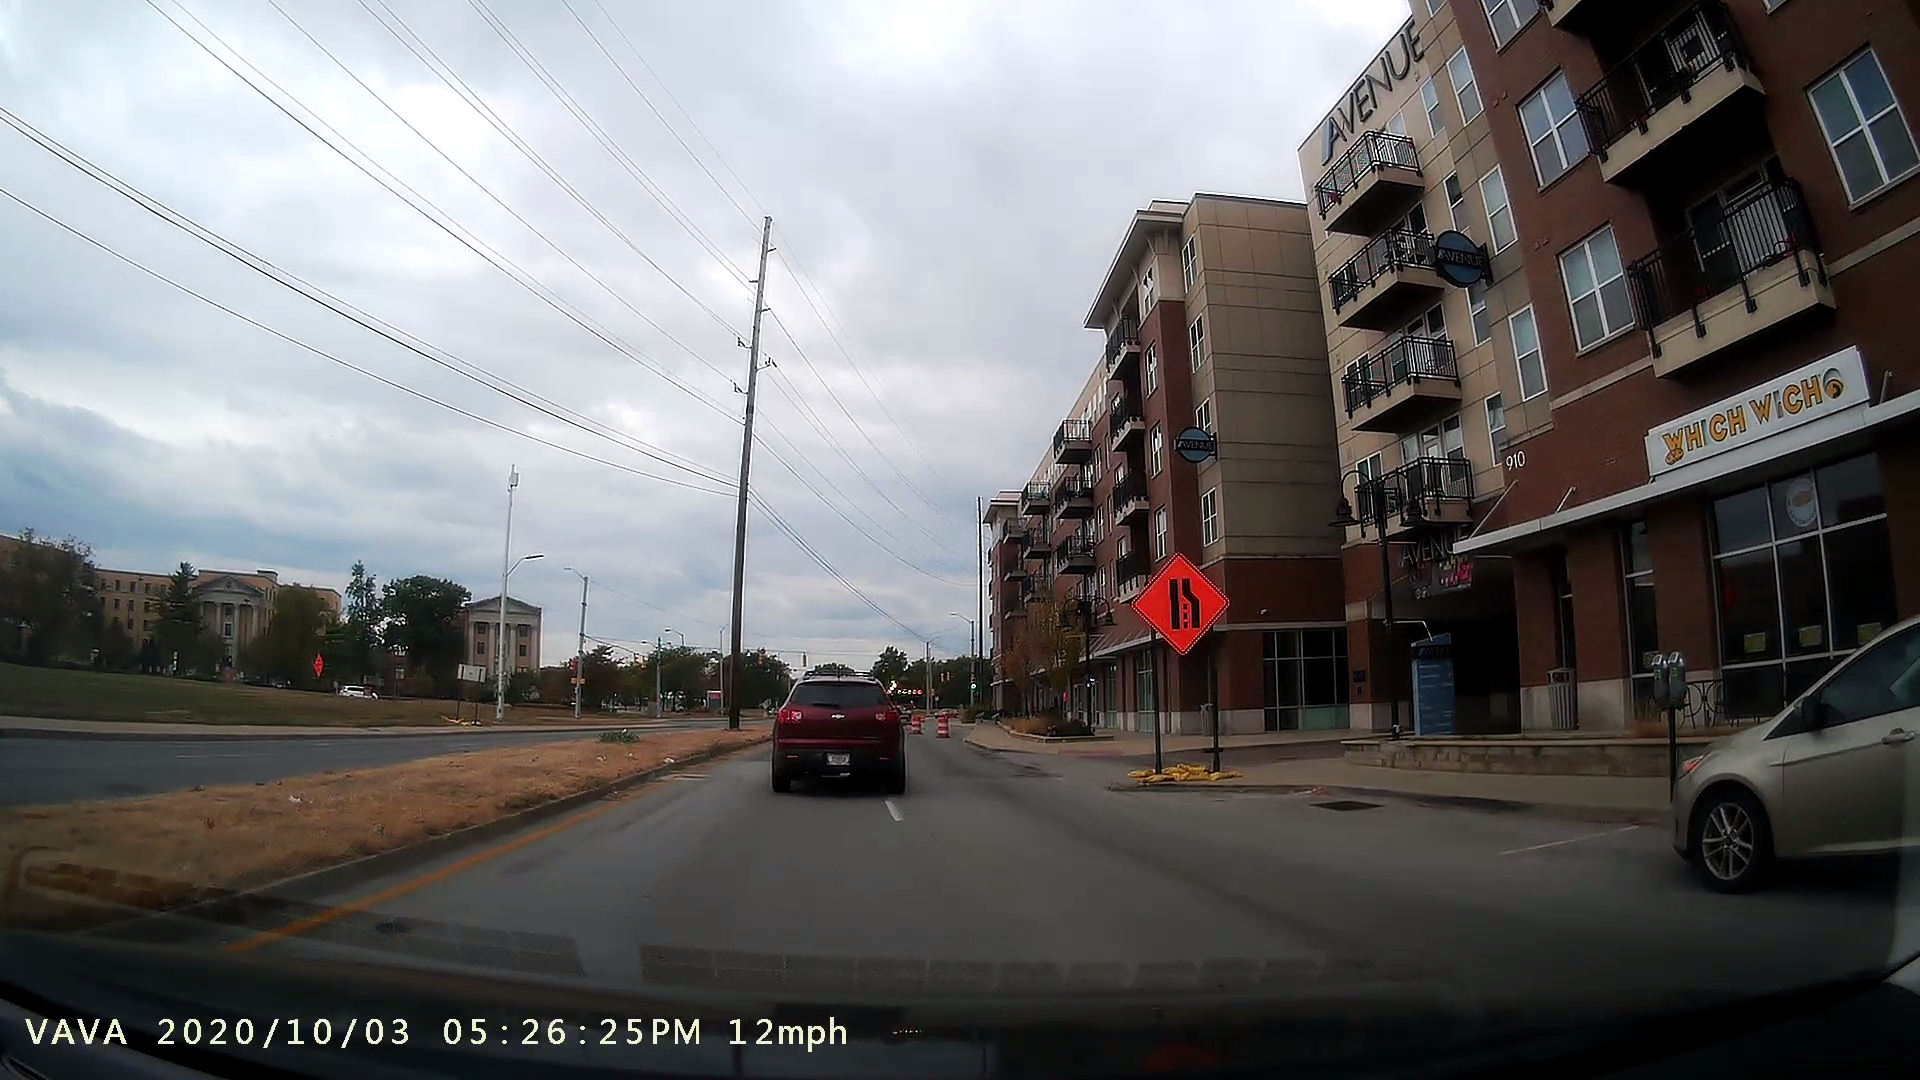ttcs_right_lane_reduction: (1121, 541, 1249, 783)
